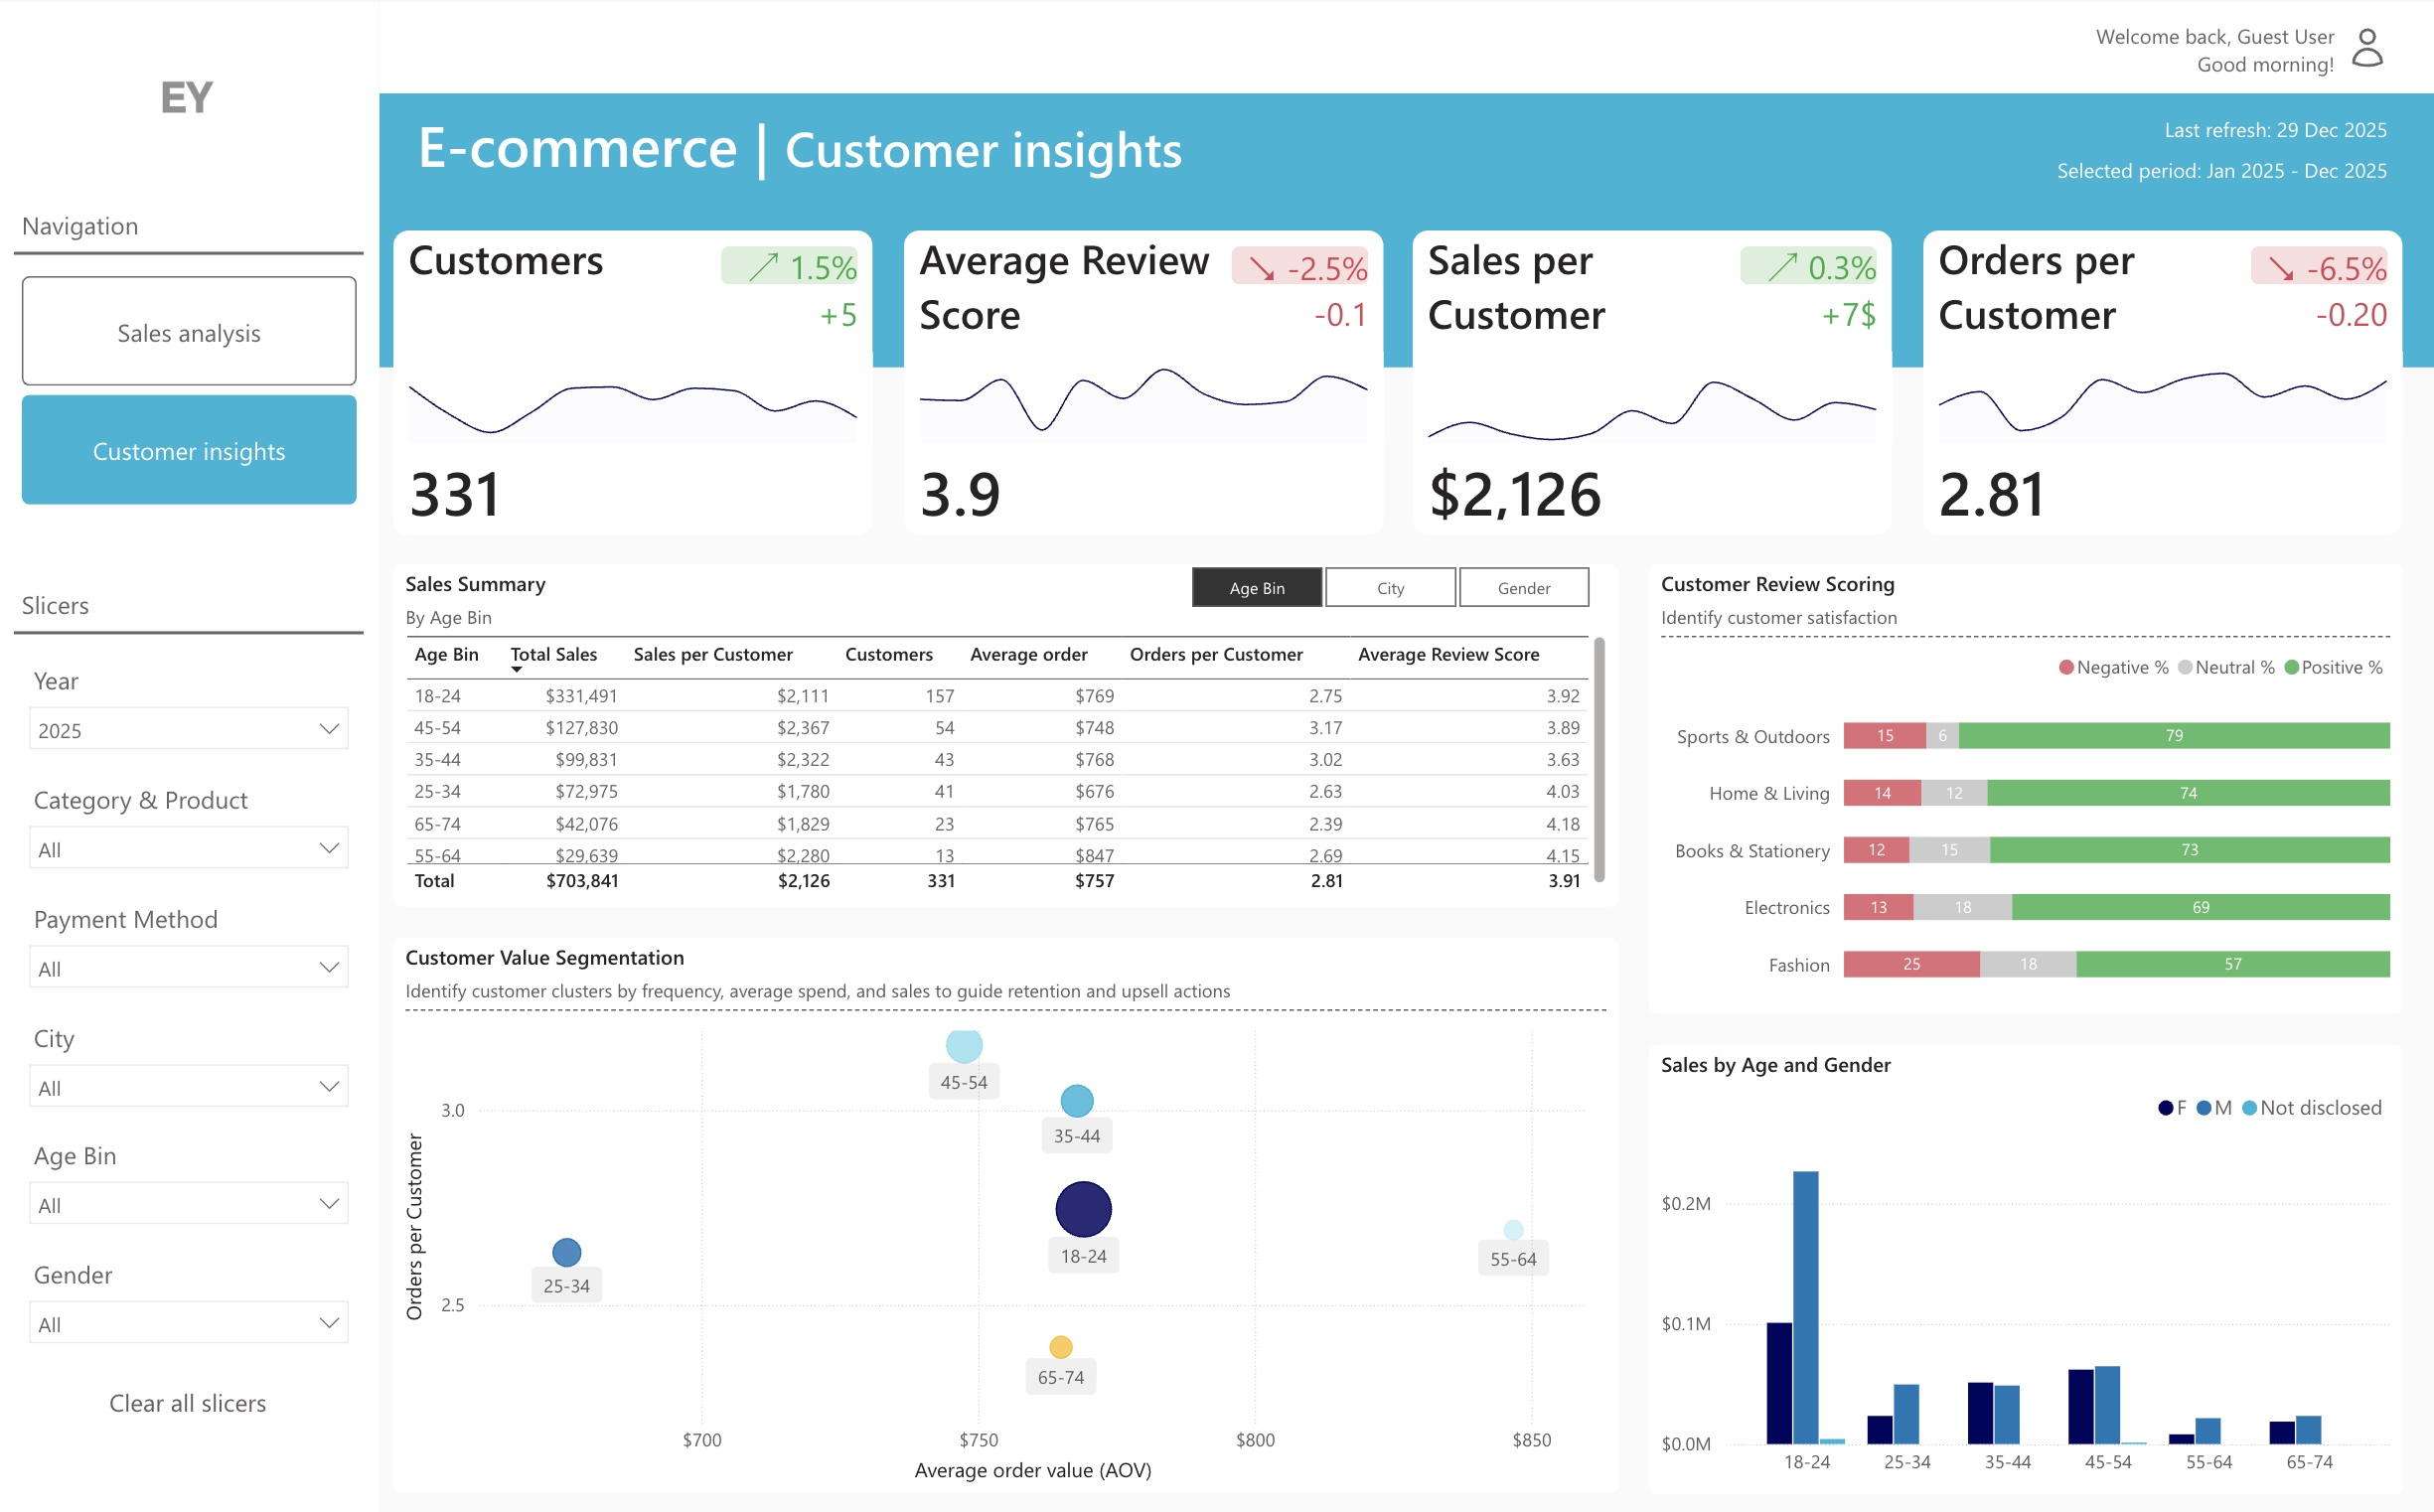

This screenshot's page, from the dashboard's own definition file:
{"tool":"powerbi","page":{"name":"Customer insights","canvas":[1600,1000],"ordinal":1},"visuals":[{"type":"group","id":"g1","title":"Background","box":[0,0,1600.7,1000],"z":0},{"type":"shape","title":"White upper pane","box":[250,0,1350.7,60],"z":0,"group":"g1"},{"type":"shape","title":"KPI back","box":[260,150,314.8,200],"z":0,"group":"g7"},{"type":"shape","title":"KPI back","box":[595.7,150,315,200],"z":0,"group":"g6"},{"type":"shape","title":"KPI back","box":[930,150,314.8,200],"z":0,"group":"g5"},{"type":"shape","title":"KPI back","box":[1265,150,314.8,200],"z":0,"group":"g4"},{"type":"pageNavigator","box":[15,180,220,150],"z":0,"group":"g3"},{"type":"tableEx","title":"Sales Summary","fields":{"Values":["synthetic_online_retail_data.city","Measure.Total Sales","Measure.Sales per Customer","Measure.Customers","Measure.AOV","Measure.Orders per Customer","Measure.Average Review Score"]},"box":[260,370,805,225],"z":0,"group":"g8"},{"type":"actionButton","box":[25,900,200,40],"z":0,"group":"g2"},{"type":"shape","title":"White left pane","box":[0,0,250,1000],"z":1000,"group":"g1"},{"type":"textbox","box":[10,130,230,30],"z":1000,"group":"g3"},{"type":"cardVisual","title":"KPI value","fields":{"Data":["Measure.Customers"]},"box":[260.2,300,314.8,45.5],"z":1000,"group":"g7"},{"type":"cardVisual","title":"KPI value","fields":{"Data":["Measure.Review Score AVG"]},"box":[595.9,300,314.8,45.5],"z":1000,"group":"g6"},{"type":"cardVisual","title":"KPI value","fields":{"Data":["Measure.Sales per Customer"]},"box":[930.2,300,314.8,45.5],"z":1000,"group":"g5"},{"type":"cardVisual","title":"KPI value","fields":{"Data":["Measure.Orders per Customer"]},"box":[1265.2,300,314.8,45.5],"z":1000,"group":"g4"},{"type":"slicer","fields":{"Values":["Parameter for Sales summary.Parameter for Sales summary"]},"box":[764.4,370,301.1,30],"z":1000,"group":"g8"},{"type":"group","id":"g2","title":"Slicers","box":[10,380,230.1,560],"z":1000},{"type":"slicer","title":"Gender","fields":{"Values":["synthetic_online_retail_data.gender"]},"box":[10,820,230,80],"z":1000,"group":"g2"},{"type":"shape","title":"Blue rectangle","box":[250,60,1350,180],"z":2000,"group":"g1"},{"type":"shape","title":"Line","box":[10.1,150,230,30],"z":2000,"group":"g3"},{"type":"lineChart","title":"Line graph","fields":{"Category":["Date.Month-Year"],"Y":["Measure.Customers"]},"box":[260,230,314.8,60],"z":2000,"group":"g7"},{"type":"lineChart","title":"Line graph","fields":{"Category":["Date.Month-Year"],"Y":["Measure.Review Score AVG"]},"box":[595.7,230,314.8,60],"z":2000,"group":"g6"},{"type":"lineChart","title":"Line graph","fields":{"Category":["Date.Month-Year"],"Y":["Measure.Sales per Customer"]},"box":[930,230,314.8,60],"z":2000,"group":"g5"},{"type":"lineChart","title":"Line graph","fields":{"Category":["Date.Month-Year"],"Y":["Measure.Orders per Customer"]},"box":[1265,230,314.8,60],"z":2000,"group":"g4"},{"type":"scatterChart","title":"Customer Value Segmentation","fields":{"X":["Measure.AOV"],"Y":["Measure.Orders per Customer"],"Series":["synthetic_online_retail_data.age_bin"],"Size":["Measure.Total Sales"]},"box":[260,615,805,365],"z":2000},{"type":"slicer","title":"Age Bin","fields":{"Values":["synthetic_online_retail_data.age_bin"]},"box":[10,742,230,80],"z":2000,"group":"g2"},{"type":"cardVisual","title":"Dates","fields":{"Data":["Measure.Last Refresh Date","Measure.Selected Period"]},"box":[1338.6,62.9,242.9,67.1],"z":3000,"group":"g1"},{"type":"group","id":"g3","title":"Navigation","box":[10,130,230.1,200],"z":3000},{"type":"cardVisual","title":"Abs change","fields":{"Data":["Measure.Customers YoY Diff Formatted"]},"box":[469.9,190,100.2,30],"z":3000,"group":"g7"},{"type":"cardVisual","title":"Abs change","fields":{"Data":["Measure.Review Score AVG YoY Diff Formatted"]},"box":[805.6,190,100.2,30],"z":3000,"group":"g6"},{"type":"cardVisual","title":"Abs change","fields":{"Data":["Measure.Sales per Customer YoY Diff Formatted"]},"box":[1139.9,190,100.2,30],"z":3000,"group":"g5"},{"type":"cardVisual","title":"Abs change","fields":{"Data":["Measure.Orders per Customer YoY Diff Formatted"]},"box":[1474.9,190,100.2,30],"z":3000,"group":"g4"},{"type":"slicer","title":"City","fields":{"Values":["synthetic_online_retail_data.city"]},"box":[10,664,230,80],"z":3000,"group":"g2"},{"type":"textbox","title":"Report name","box":[270,62.9,920,67.1],"z":4000,"group":"g1"},{"type":"group","id":"g4","title":"KPI Unit Price","box":[1265,150,315,200],"z":4000},{"type":"cardVisual","title":"Rel change","fields":{"Data":["Measure.Customers YoY % Formatted"]},"box":[469.9,160,100.2,30],"z":4000,"group":"g7"},{"type":"cardVisual","title":"Rel change","fields":{"Data":["Measure.Review Score AVG YoY % Formatted"]},"box":[805.6,160,100,30],"z":4000,"group":"g6"},{"type":"cardVisual","title":"Rel change","fields":{"Data":["Measure.Sales per Customer YoY % Formatted"]},"box":[1139.9,160,100.2,30],"z":4000,"group":"g5"},{"type":"cardVisual","title":"Rel change","fields":{"Data":["Measure.Orders per Customer YoY % Formatted"]},"box":[1474.9,160,100.2,30],"z":4000,"group":"g4"},{"type":"slicer","title":"Payment method","fields":{"Values":["synthetic_online_retail_data.payment_method"]},"box":[10,586,230,80],"z":4000,"group":"g2"},{"type":"cardVisual","title":"Greeting","fields":{"Data":["Measure.Greeting 2"]},"box":[1344.3,0,237.1,60],"z":5000,"group":"g1"},{"type":"textbox","title":"KPI name","box":[260,150,210,80],"z":5000,"group":"g7"},{"type":"textbox","title":"KPI name","box":[595.7,150,209.9,80],"z":5000,"group":"g6"},{"type":"group","id":"g5","title":"KPI AOV","box":[930,150,315,200],"z":5000},{"type":"textbox","title":"KPI name","box":[930,150,210,80],"z":5000,"group":"g5"},{"type":"textbox","title":"KPI name","box":[1265,150,209.9,80],"z":5000,"group":"g4"},{"type":"slicer","title":"Category","fields":{"Values":["synthetic_online_retail_data.category_name","synthetic_online_retail_data.product_name"]},"box":[10,508,230,80],"z":5000,"group":"g2"},{"type":"image","box":[67.1,24.3,115.7,75.7],"z":6000,"group":"g1"},{"type":"group","id":"g6","title":"KPI Total Orders","box":[595.7,150,315,200],"z":6000},{"type":"slicer","title":"Year","fields":{"Values":["Date.Year"]},"box":[10,430,230,80],"z":6000,"group":"g2"},{"type":"group","id":"g7","title":"KPI Total Sales","box":[260,150,315,200],"z":7000},{"type":"textbox","box":[10,380,230,30],"z":7000,"group":"g2"},{"type":"barChart","title":"Customer Review Scoring","fields":{"Category":["synthetic_online_retail_data.category_name"],"Y":["Measure.Negative %","Measure.Neutral %","Measure.Positive %"]},"box":[1085,370,495,295],"z":8000},{"type":"shape","title":"Line","box":[10.1,400,230,30],"z":8000,"group":"g2"},{"type":"clusteredColumnChart","title":"Sales by Age and Gender","fields":{"Y":["Measure.Total Sales"],"Series":["synthetic_online_retail_data.gender"],"Category":["synthetic_online_retail_data.age_bin"]},"box":[1085,685,495,295],"z":9000},{"type":"group","id":"g8","title":"Sales Summary","box":[260,370,805.6,225],"z":10000}]}

Visuals, with their boxes on the page's 1600x1000 design canvas (x1, y1, x2, y2). These are canvas units, not pixel positions in the 2434x1512 screenshot, which may show the page scaled, cropped or inside an application window:
"Background" group: {"left": 0, "top": 0, "right": 1601, "bottom": 1000}
"White upper pane" shape: {"left": 250, "top": 0, "right": 1601, "bottom": 60}
"KPI back" shape: {"left": 260, "top": 150, "right": 575, "bottom": 350}
"KPI back" shape: {"left": 596, "top": 150, "right": 911, "bottom": 350}
"KPI back" shape: {"left": 930, "top": 150, "right": 1245, "bottom": 350}
"KPI back" shape: {"left": 1265, "top": 150, "right": 1580, "bottom": 350}
pageNavigator: {"left": 15, "top": 180, "right": 235, "bottom": 330}
"Sales Summary" tableEx: {"left": 260, "top": 370, "right": 1065, "bottom": 595}
actionButton: {"left": 25, "top": 900, "right": 225, "bottom": 940}
"White left pane" shape: {"left": 0, "top": 0, "right": 250, "bottom": 1000}
textbox: {"left": 10, "top": 130, "right": 240, "bottom": 160}
"KPI value" cardVisual: {"left": 260, "top": 300, "right": 575, "bottom": 346}
"KPI value" cardVisual: {"left": 596, "top": 300, "right": 911, "bottom": 346}
"KPI value" cardVisual: {"left": 930, "top": 300, "right": 1245, "bottom": 346}
"KPI value" cardVisual: {"left": 1265, "top": 300, "right": 1580, "bottom": 346}
slicer - Parameter for Sales summary.Parameter for Sales summary: {"left": 764, "top": 370, "right": 1066, "bottom": 400}
"Slicers" group: {"left": 10, "top": 380, "right": 240, "bottom": 940}
"Gender" slicer: {"left": 10, "top": 820, "right": 240, "bottom": 900}
"Blue rectangle" shape: {"left": 250, "top": 60, "right": 1600, "bottom": 240}
"Line" shape: {"left": 10, "top": 150, "right": 240, "bottom": 180}
"Line graph" lineChart: {"left": 260, "top": 230, "right": 575, "bottom": 290}
"Line graph" lineChart: {"left": 596, "top": 230, "right": 910, "bottom": 290}
"Line graph" lineChart: {"left": 930, "top": 230, "right": 1245, "bottom": 290}
"Line graph" lineChart: {"left": 1265, "top": 230, "right": 1580, "bottom": 290}
"Customer Value Segmentation" scatterChart: {"left": 260, "top": 615, "right": 1065, "bottom": 980}
"Age Bin" slicer: {"left": 10, "top": 742, "right": 240, "bottom": 822}
"Dates" cardVisual: {"left": 1339, "top": 63, "right": 1582, "bottom": 130}
"Navigation" group: {"left": 10, "top": 130, "right": 240, "bottom": 330}
"Abs change" cardVisual: {"left": 470, "top": 190, "right": 570, "bottom": 220}
"Abs change" cardVisual: {"left": 806, "top": 190, "right": 906, "bottom": 220}
"Abs change" cardVisual: {"left": 1140, "top": 190, "right": 1240, "bottom": 220}
"Abs change" cardVisual: {"left": 1475, "top": 190, "right": 1575, "bottom": 220}
"City" slicer: {"left": 10, "top": 664, "right": 240, "bottom": 744}
"Report name" textbox: {"left": 270, "top": 63, "right": 1190, "bottom": 130}
"KPI Unit Price" group: {"left": 1265, "top": 150, "right": 1580, "bottom": 350}
"Rel change" cardVisual: {"left": 470, "top": 160, "right": 570, "bottom": 190}
"Rel change" cardVisual: {"left": 806, "top": 160, "right": 906, "bottom": 190}
"Rel change" cardVisual: {"left": 1140, "top": 160, "right": 1240, "bottom": 190}
"Rel change" cardVisual: {"left": 1475, "top": 160, "right": 1575, "bottom": 190}
"Payment method" slicer: {"left": 10, "top": 586, "right": 240, "bottom": 666}
"Greeting" cardVisual: {"left": 1344, "top": 0, "right": 1581, "bottom": 60}
"KPI name" textbox: {"left": 260, "top": 150, "right": 470, "bottom": 230}
"KPI name" textbox: {"left": 596, "top": 150, "right": 806, "bottom": 230}
"KPI AOV" group: {"left": 930, "top": 150, "right": 1245, "bottom": 350}
"KPI name" textbox: {"left": 930, "top": 150, "right": 1140, "bottom": 230}
"KPI name" textbox: {"left": 1265, "top": 150, "right": 1475, "bottom": 230}
"Category" slicer: {"left": 10, "top": 508, "right": 240, "bottom": 588}
image: {"left": 67, "top": 24, "right": 183, "bottom": 100}
"KPI Total Orders" group: {"left": 596, "top": 150, "right": 911, "bottom": 350}
"Year" slicer: {"left": 10, "top": 430, "right": 240, "bottom": 510}
"KPI Total Sales" group: {"left": 260, "top": 150, "right": 575, "bottom": 350}
textbox: {"left": 10, "top": 380, "right": 240, "bottom": 410}
"Customer Review Scoring" barChart: {"left": 1085, "top": 370, "right": 1580, "bottom": 665}
"Line" shape: {"left": 10, "top": 400, "right": 240, "bottom": 430}
"Sales by Age and Gender" clusteredColumnChart: {"left": 1085, "top": 685, "right": 1580, "bottom": 980}
"Sales Summary" group: {"left": 260, "top": 370, "right": 1066, "bottom": 595}
